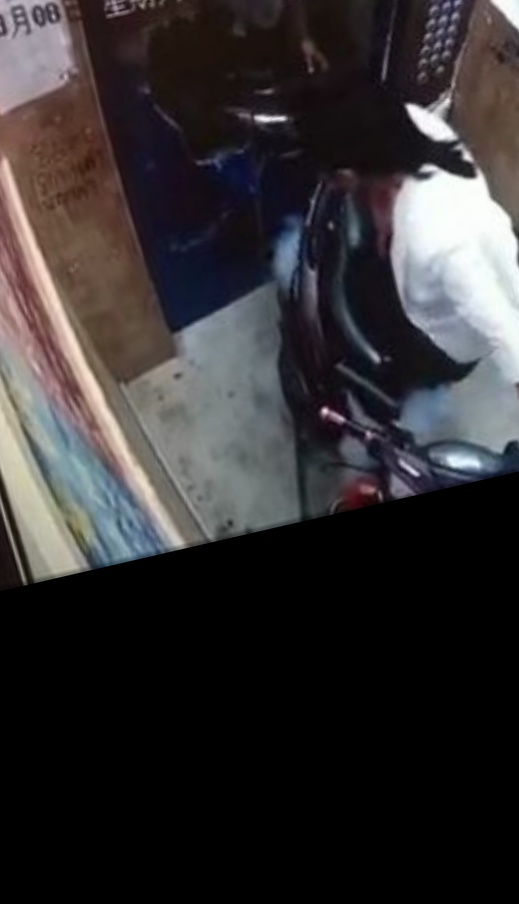ebike: (291, 177, 511, 516)
person: (309, 79, 519, 470)
